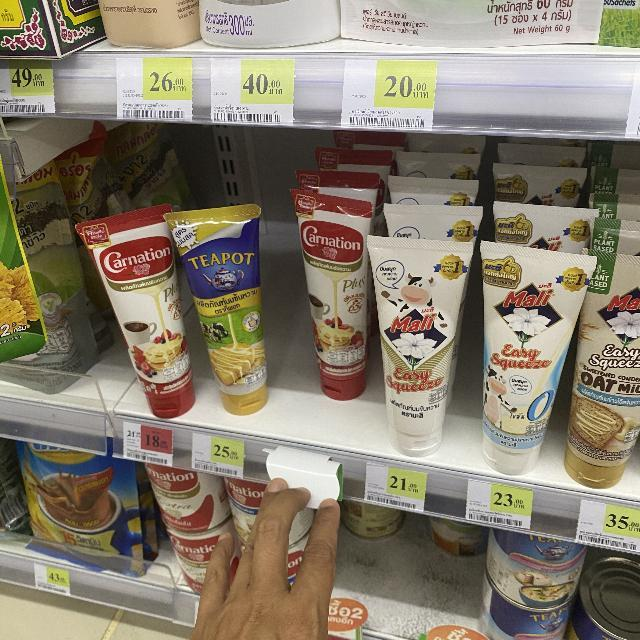Squeeze Tube: (75, 140, 640, 482)
